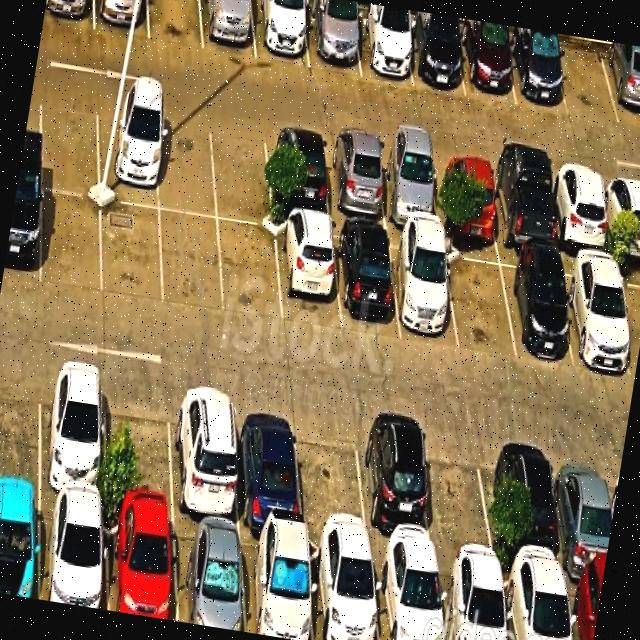empty: (425, 424, 497, 567), (296, 407, 369, 547), (106, 373, 174, 516), (444, 243, 516, 358), (210, 117, 273, 228), (160, 211, 224, 313), (102, 201, 163, 307), (218, 222, 282, 323), (158, 109, 217, 217), (42, 190, 102, 294), (41, 89, 99, 196), (553, 37, 619, 124), (0, 356, 40, 491), (148, 0, 204, 50), (616, 262, 640, 378)
occupied: (357, 416, 436, 557), (172, 384, 240, 526), (234, 395, 303, 534), (40, 361, 106, 504), (500, 434, 565, 575), (560, 254, 633, 373), (172, 518, 246, 632), (389, 232, 459, 349), (554, 442, 613, 580), (499, 251, 573, 361), (105, 508, 177, 621), (241, 530, 313, 640), (333, 223, 401, 336), (41, 496, 108, 610), (276, 215, 341, 330), (309, 539, 379, 640), (97, 99, 159, 208), (488, 158, 557, 252), (372, 552, 445, 640), (266, 126, 331, 218), (433, 150, 498, 241), (376, 141, 441, 230), (324, 134, 388, 224), (438, 559, 508, 640), (549, 166, 611, 254), (508, 26, 568, 115), (502, 568, 572, 640), (458, 20, 517, 105), (404, 16, 465, 96), (353, 7, 413, 86), (0, 491, 40, 599), (2, 181, 42, 286), (305, 0, 361, 75), (251, 0, 310, 68), (600, 43, 640, 127), (201, 0, 256, 60), (602, 172, 640, 258), (565, 576, 603, 640), (94, 0, 149, 39), (43, 0, 95, 30)
